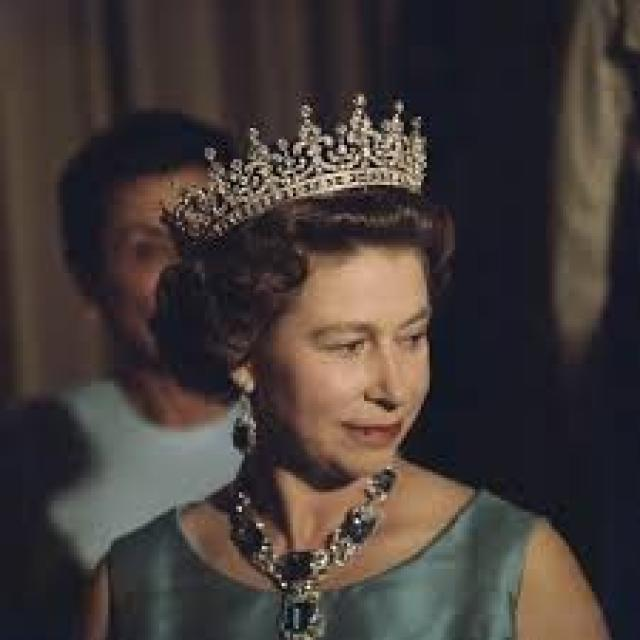Earring: (222, 367, 260, 462)
